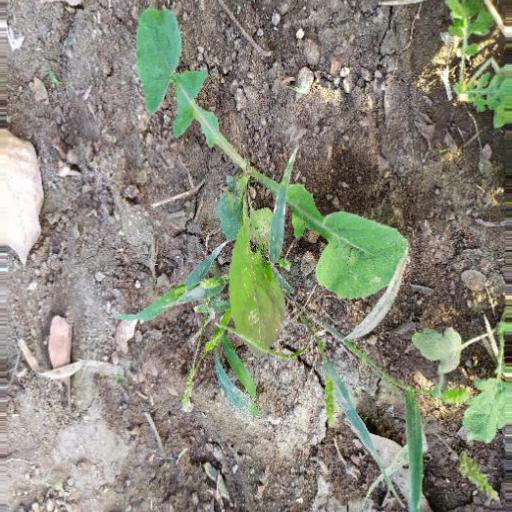weed: (93, 1, 417, 392)
